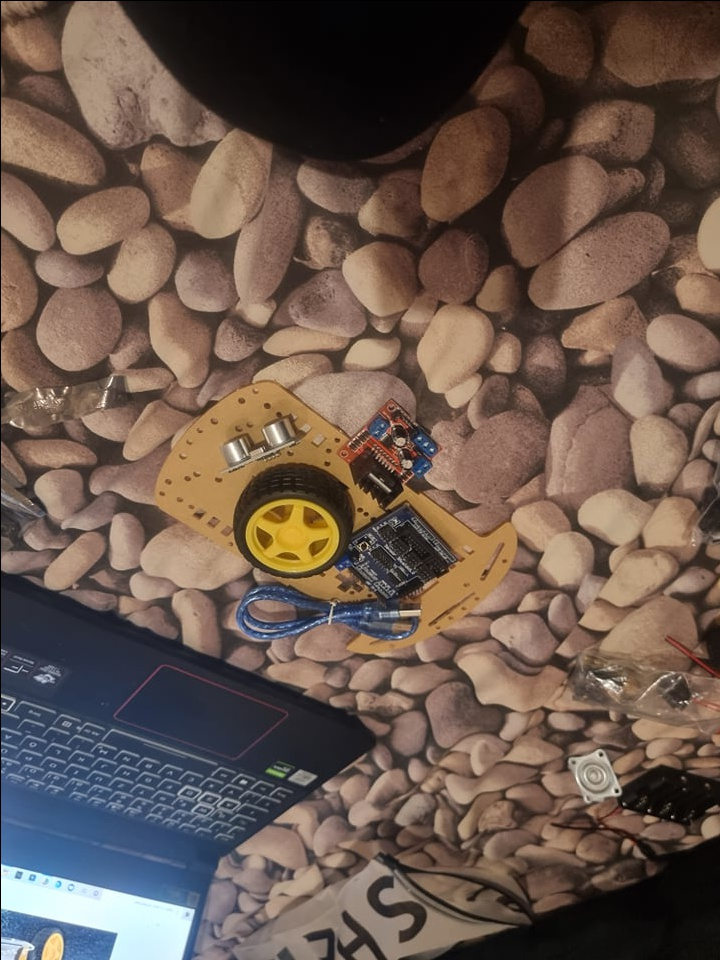5V EXPANSION: (334, 499, 458, 604)
BATTERY BOX: (617, 761, 719, 827)
MOTOR: (338, 399, 447, 507)
SENSOR: (218, 413, 300, 474)
